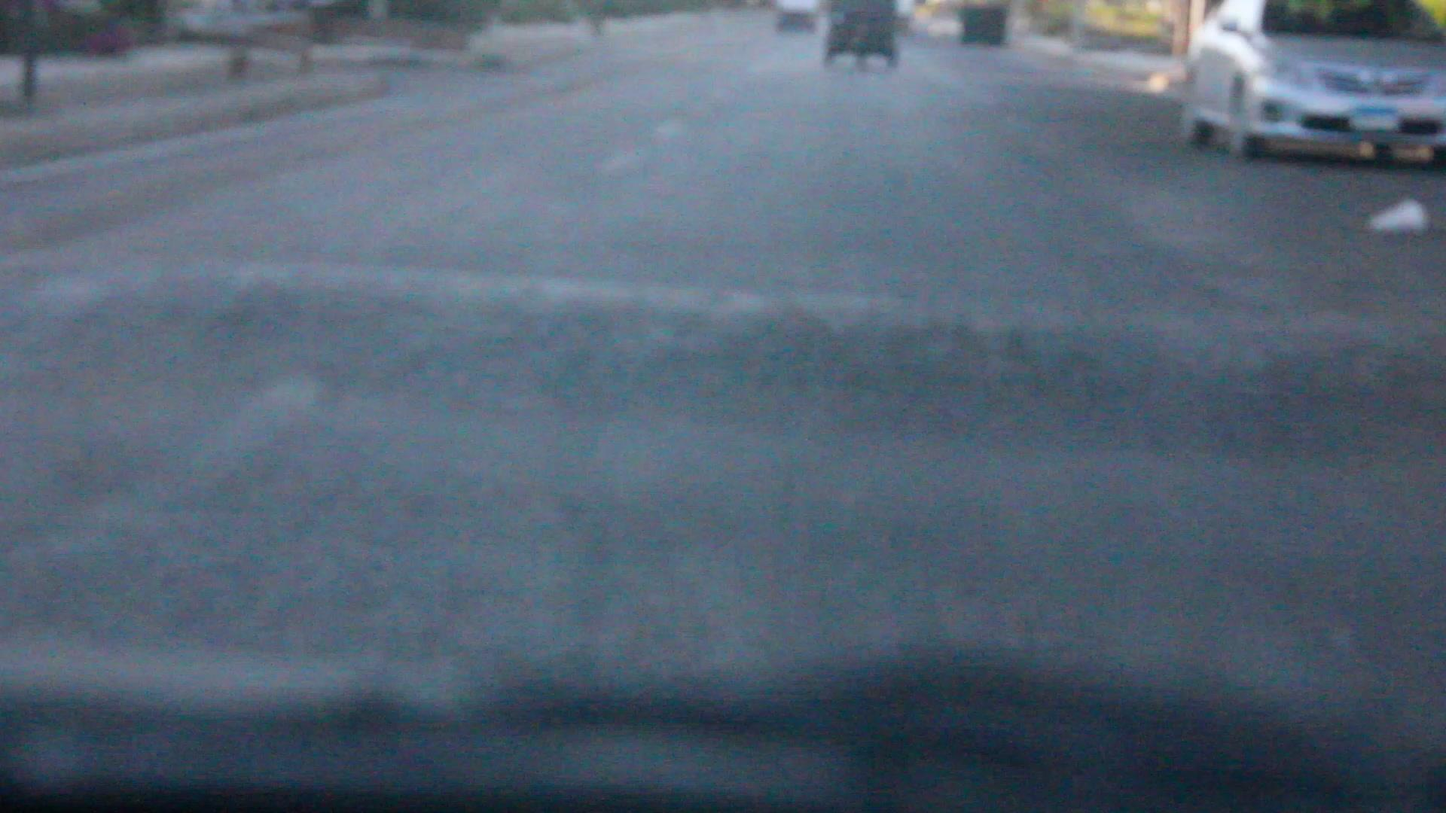Bump: (0, 258, 1446, 455)
